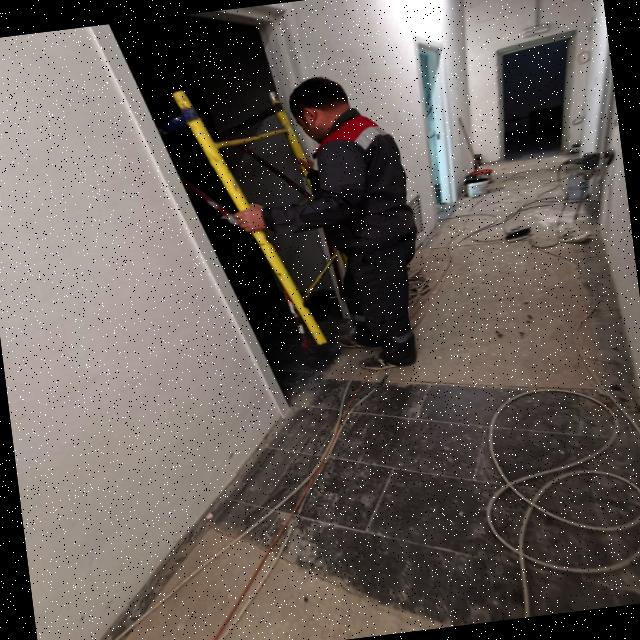NoHelmet: (282, 73, 362, 148)
